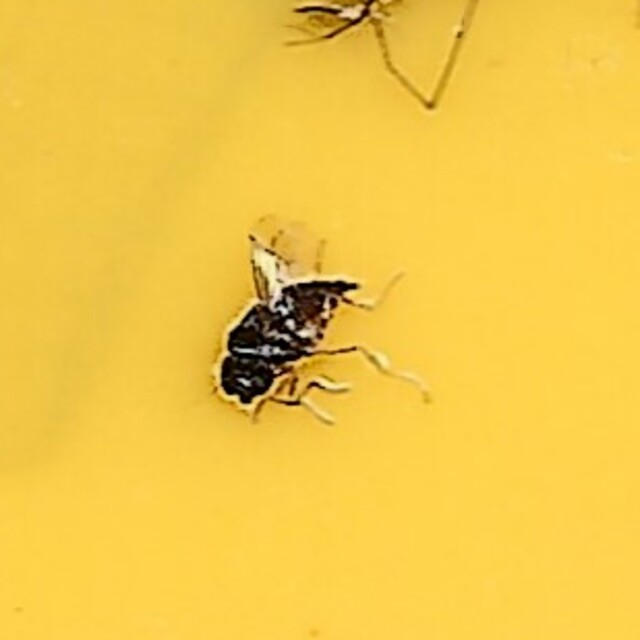Brachycera: (207, 211, 433, 429)
